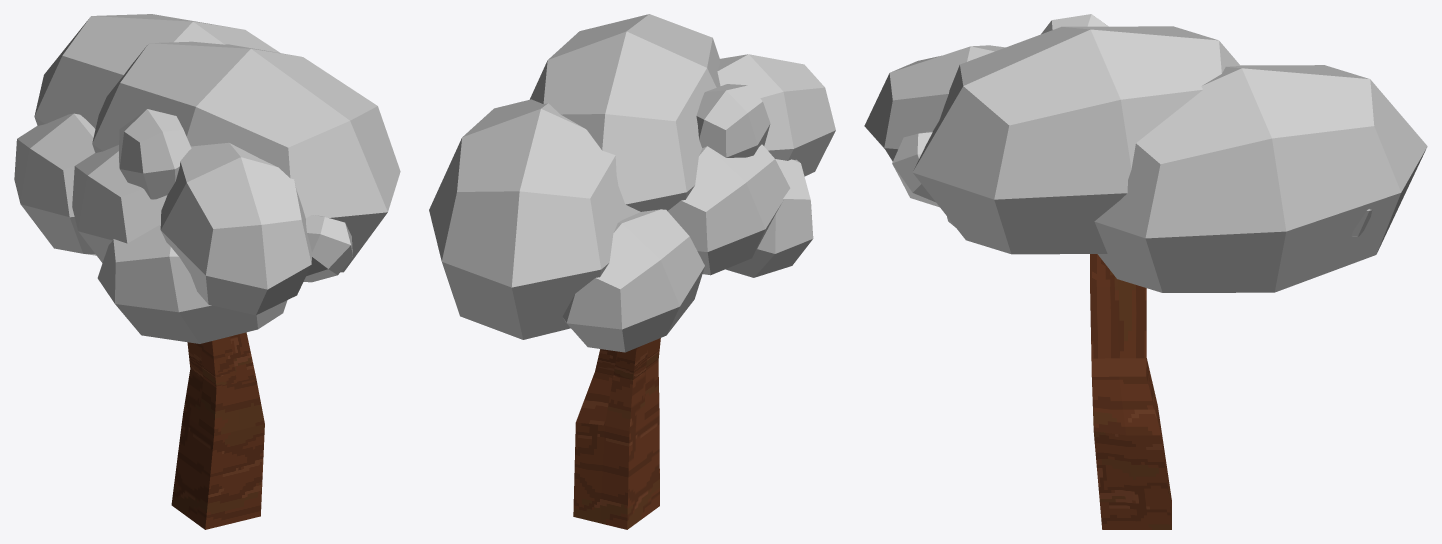
The model's file is EikBoom.fbx.
The picture shows the model from 3 angles, left to right: view 1: azimuth 30°, elevation 25°; view 2: azimuth 150°, elevation 25°; view 3: azimuth 270°, elevation 25°; orthographic projection. The views are drawn at different scales.
Visible parts, largest first — view 1: Cube.061; view 2: Cube.061; view 3: Cube.061.
Boxes of the visible parts, bbox=[...] form: Cube.061: bbox=[14, 14, 400, 529]; Cube.061: bbox=[429, 14, 835, 529]; Cube.061: bbox=[864, 14, 1427, 529].
Bounding box in the file's own units: 54.07 × 86.92 × 90.08.
